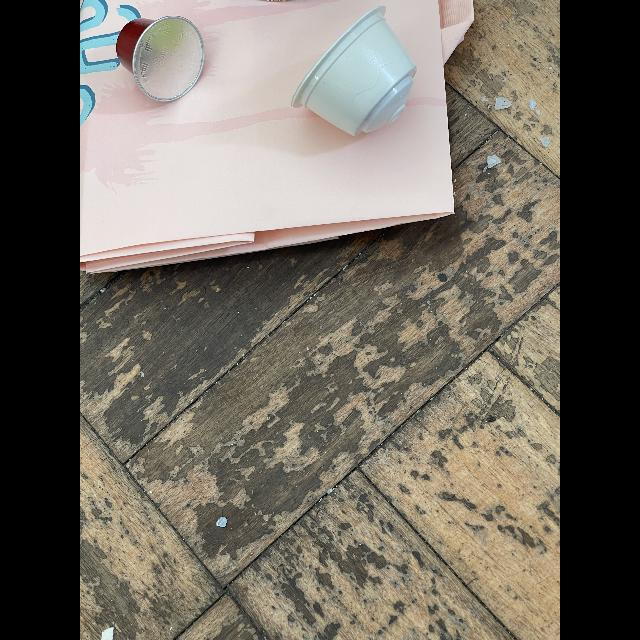intact_capsule: (287, 3, 423, 142), (112, 12, 210, 104)
